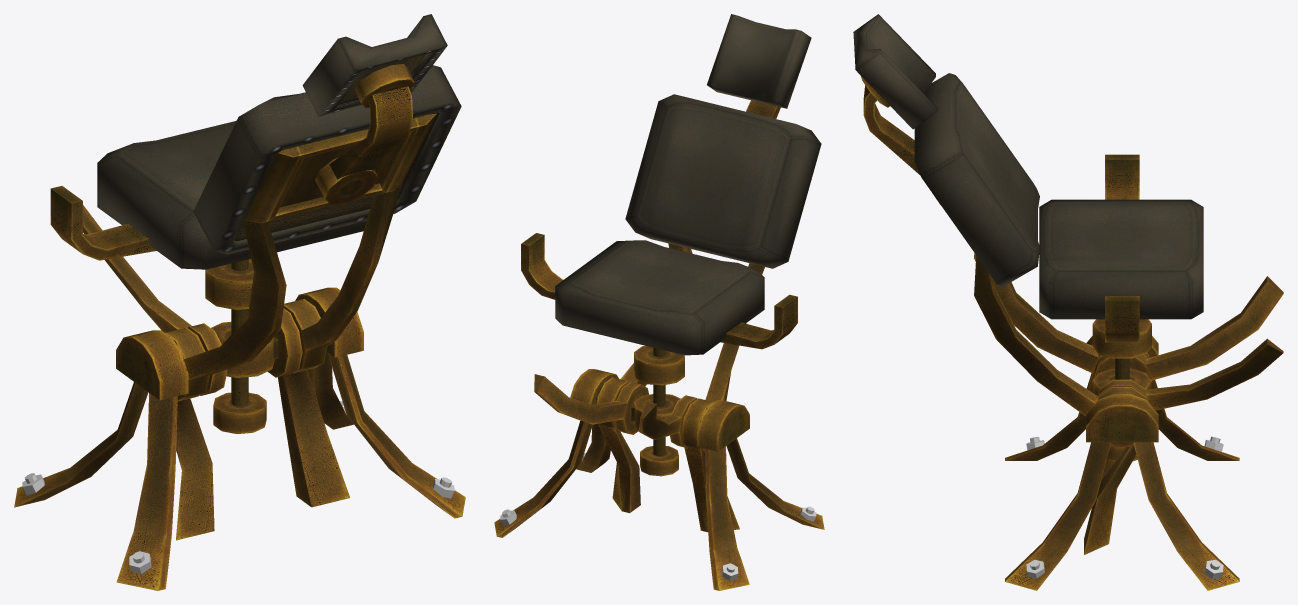
The model's file is conversion_chair.DAE.
3 views of the same model, side by side, from view 1: azimuth 30°, elevation 25°; view 2: azimuth 150°, elevation 25°; view 3: azimuth 270°, elevation 25° (orthographic). The views are drawn at different scales.
Visible parts, largest first — view 1: conversion_chair, nuts; view 2: conversion_chair, nuts; view 3: conversion_chair, nuts.
Part boxes in pixels (x1,y1,x2,y2): conversion_chair: (14, 14, 465, 590); nuts: (22, 407, 454, 574); conversion_chair: (494, 14, 824, 590); nuts: (500, 458, 816, 580); conversion_chair: (853, 14, 1283, 590); nuts: (1026, 439, 1223, 579).
Bounding box in the file's own units: 1.22 × 1.53 × 1.9.
